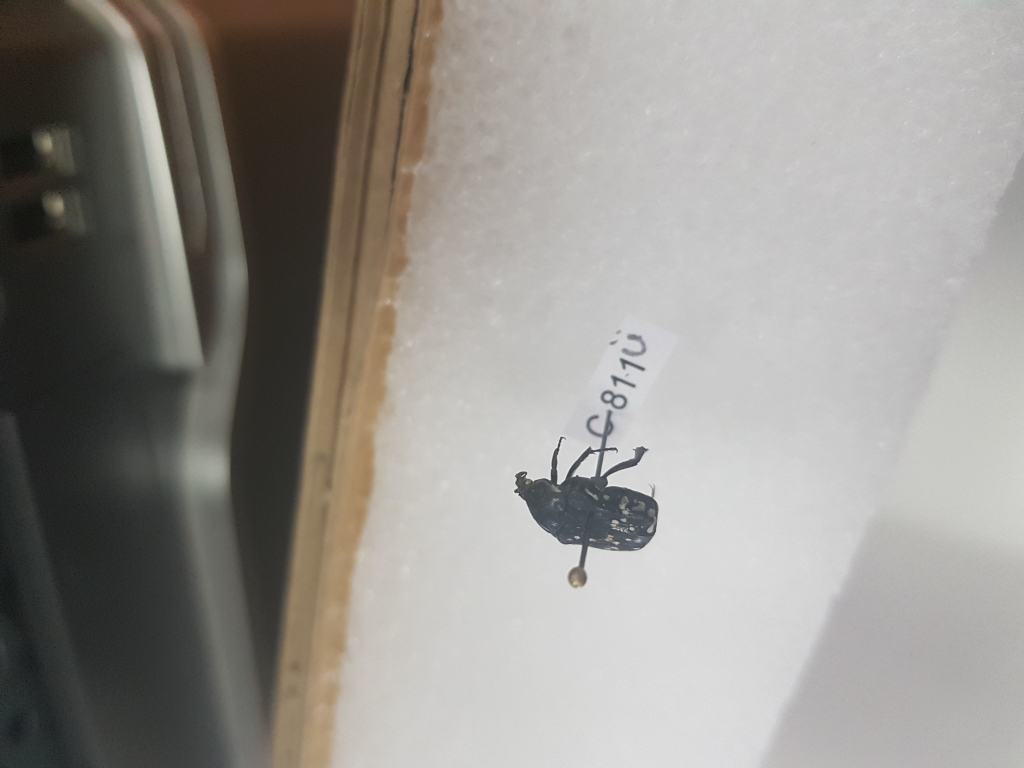Oxythyrea_albopicta: (514, 433, 668, 560)
